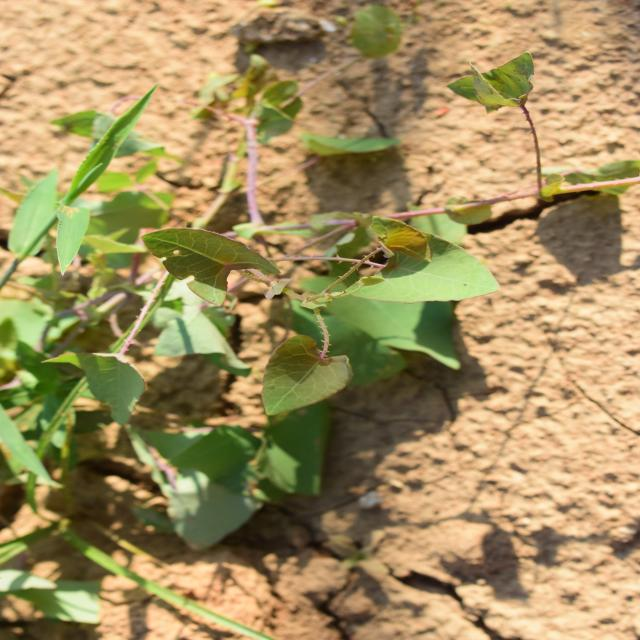Asiatic_Smartweed: (234, 139, 441, 500)
